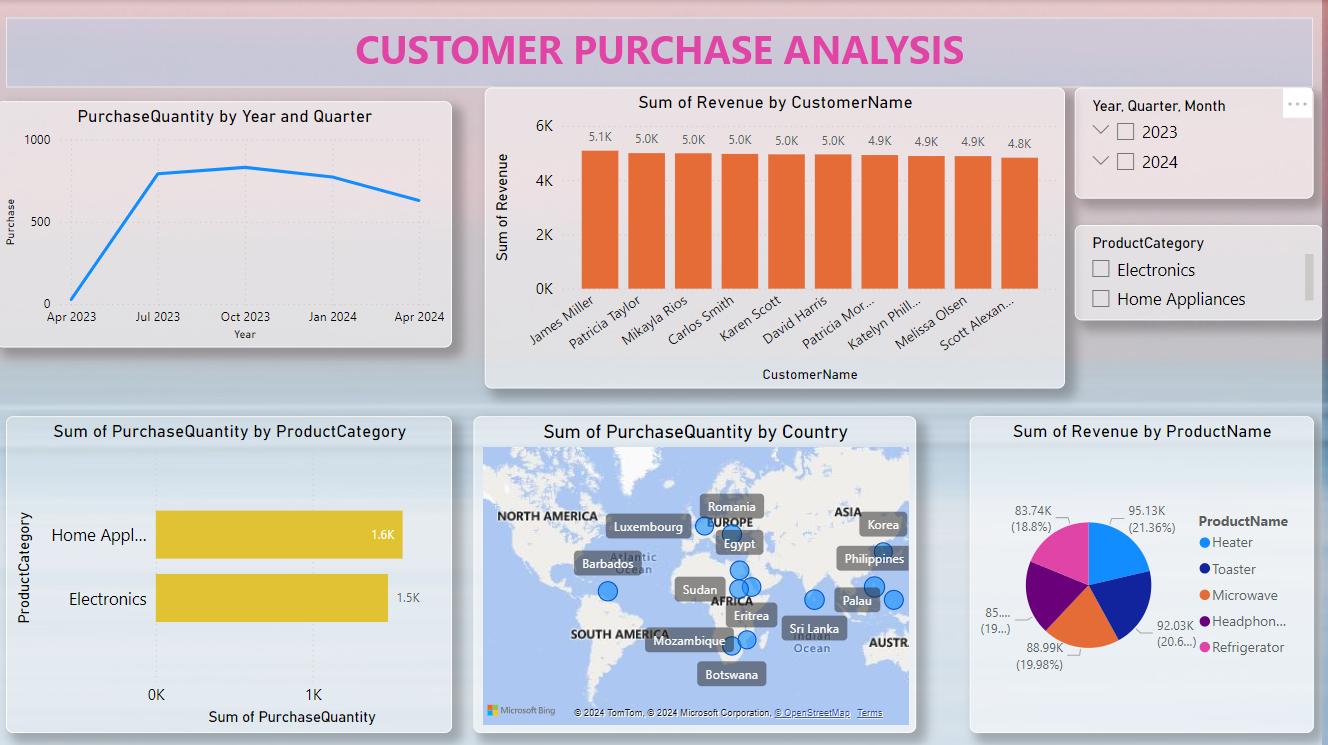

Layout of this report page (visuals, bound fields, positions):
{"tool":"powerbi","page":{"name":"Page 1","canvas":[1280,720],"ordinal":0},"visuals":[{"type":"textbox","box":[9.8,17.1,1262,67.3],"z":0},{"type":"lineChart","title":"PurchaseQuantity by Year and Quarter","fields":{"Y":["Sum(project customer_purchase_data.PurchaseQuantity)"],"Category":["project customer_purchase_data.purchasedate.Variation.Date Hierarchy.Year","project customer_purchase_data.purchasedate.Variation.Date Hierarchy.Quarter"]},"box":[0,97.7,440.4,237.7],"z":1000},{"type":"clusteredColumnChart","fields":{"Category":["project customer_purchase_data.CustomerName"],"Y":["Sum(project customer_purchase_data.Revenue)"]},"box":[471.7,84.5,559.8,290.8],"z":2000},{"type":"clusteredBarChart","fields":{"Category":["project customer_purchase_data.ProductCategory"],"Y":["Sum(project customer_purchase_data.PurchaseQuantity)"]},"box":[9.7,401.7,430.7,305.2],"z":3000},{"type":"map","fields":{"Category":["project customer_purchase_data.Country"],"Size":["Sum(project customer_purchase_data.PurchaseQuantity)"]},"box":[460.9,401.7,427.1,305.2],"z":4000},{"type":"pieChart","fields":{"Category":["project customer_purchase_data.ProductName"],"Y":["Sum(project customer_purchase_data.Revenue)"]},"box":[939.8,401.7,331.8,305.2],"z":5000},{"type":"slicer","fields":{"Values":["project customer_purchase_data.purchasedate.Variation.Date Hierarchy.Year","project customer_purchase_data.purchasedate.Variation.Date Hierarchy.Quarter","project customer_purchase_data.purchasedate.Variation.Date Hierarchy.Month"]},"box":[1041.2,84.5,230.4,107.4],"z":6000},{"type":"slicer","fields":{"Values":["project customer_purchase_data.ProductCategory"]},"box":[1041.2,217.2,238.9,91.7],"z":7000}]}

Visuals, with their boxes in screenshot pixels (x1, y1, x2, y2), scaled from the page's 1280x720 canvas onto the 1328x745 screenshot:
textbox: bbox=[10, 18, 1319, 87]
"PurchaseQuantity by Year and Quarter" lineChart: bbox=[0, 101, 457, 347]
clusteredColumnChart - project customer_purchase_data.CustomerName x Sum(project customer_purchase_data.Revenue): bbox=[489, 87, 1070, 388]
clusteredBarChart - project customer_purchase_data.ProductCategory x Sum(project customer_purchase_data.PurchaseQuantity): bbox=[10, 416, 457, 731]
map - project customer_purchase_data.Country x Sum(project customer_purchase_data.PurchaseQuantity): bbox=[478, 416, 921, 731]
pieChart - project customer_purchase_data.ProductName x Sum(project customer_purchase_data.Revenue): bbox=[975, 416, 1319, 731]
slicer - project customer_purchase_data.purchasedate.Variation.Date Hierarchy.Year x project customer_purchase_data.purchasedate.Variation.Date Hierarchy.Quarter: bbox=[1080, 87, 1319, 199]
slicer - project customer_purchase_data.ProductCategory: bbox=[1080, 225, 1327, 320]
